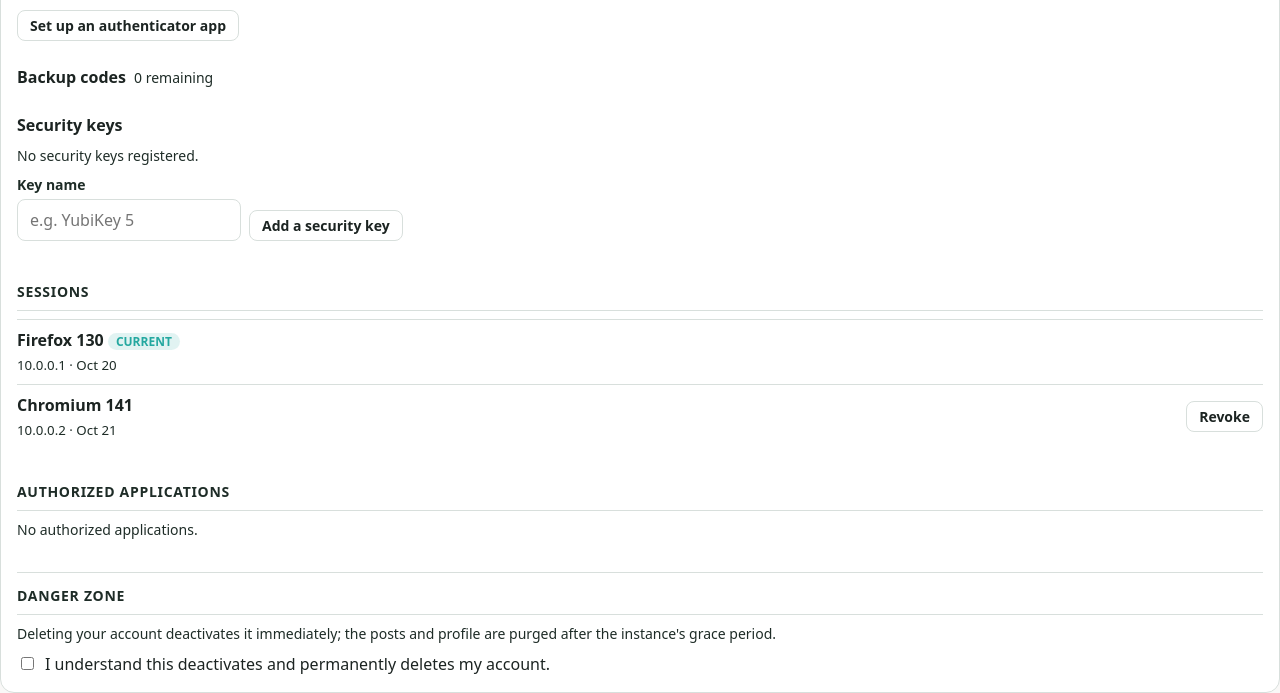
it: SecuritySettingsPage › lists sessions and revokes a non-current one
(page scrolled)
Expected: the number of list items with class "security__list-row" is 2, [17,319,1263,384]; [17,384,1263,449]
Expected: the list item with class "security__list-row" shows "Firefox 130", [17,329,108,351]
What coordinates should you click on to do the following:
click the button "Revoke"
I would click on:
 (1225, 417)
Its box is [1186,402,1263,432].
(page scrolled)
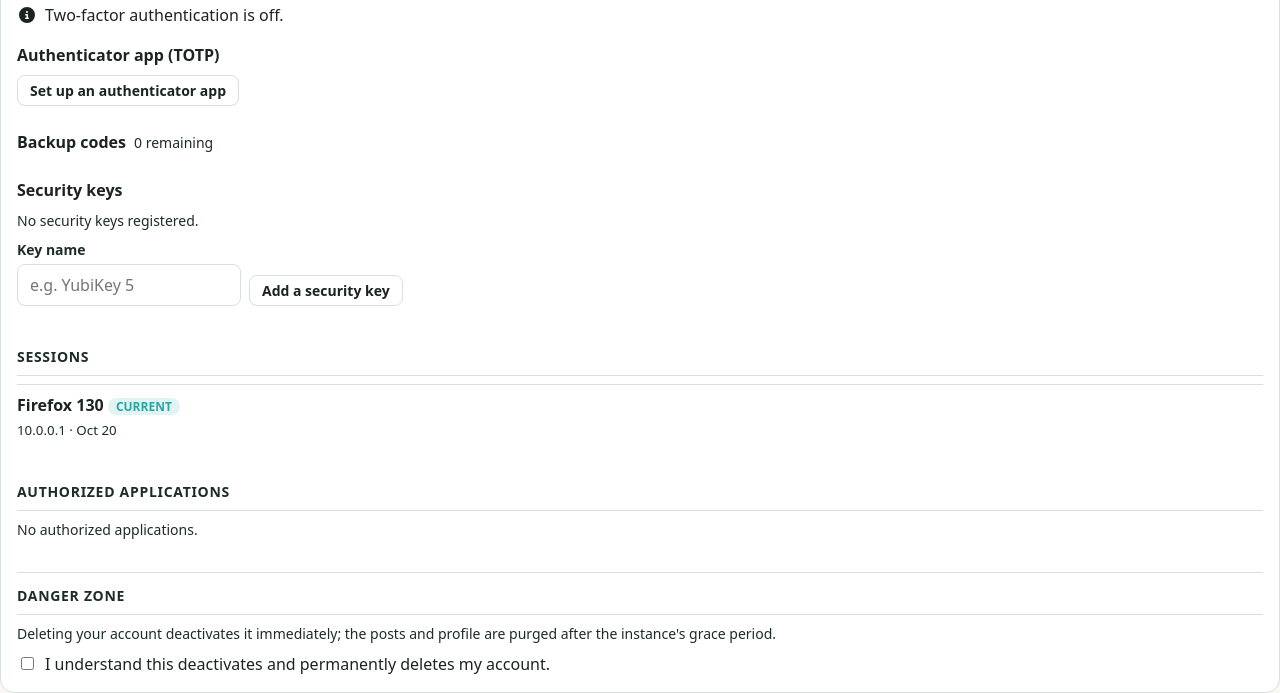
Now the number of list items with class "security__list-row" is 1, box [17,384,1263,449]
